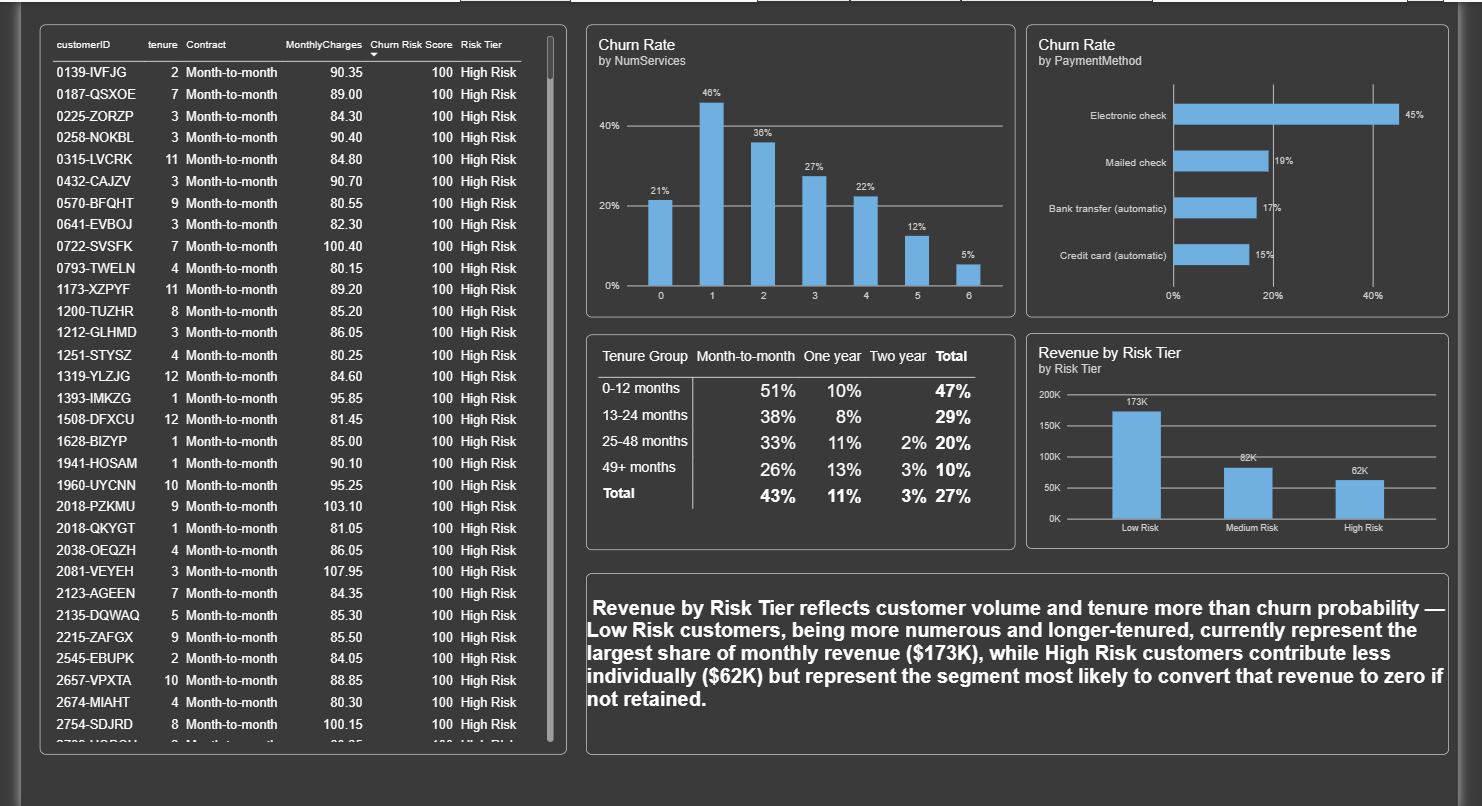

What the dashboard file says about the page in this screenshot:
{"tool":"powerbi","page":{"name":"Page 2","canvas":[1920,1080],"ordinal":1},"visuals":[{"type":"clusteredColumnChart","fields":{"Category":["saas_churn_analysis customers_raw.NumServices"],"Y":["saas_churn_analysis customers_raw.Churn Rate"]},"box":[754.6,30.8,573.7,390.9],"z":0},{"type":"barChart","fields":{"Category":["saas_churn_analysis customers_raw.PaymentMethod"],"Y":["saas_churn_analysis customers_raw.Churn Rate"]},"box":[1342.8,30.8,564.6,390.9],"z":1},{"type":"pivotTable","fields":{"Columns":["saas_churn_analysis customers_raw.Contract"],"Rows":["saas_churn_analysis customers_raw.Tenure Group"],"Values":["saas_churn_analysis customers_raw.Churn Rate"]},"box":[754.6,443.4,573.7,287.7],"z":2},{"type":"tableEx","fields":{"Values":["saas_churn_analysis customers_raw.customerID","saas_churn_analysis customers_raw.tenure","saas_churn_analysis customers_raw.Contract","saas_churn_analysis customers_raw.MonthlyCharges","saas_churn_analysis customers_raw.Churn Risk Score","saas_churn_analysis customers_raw.Risk Tier"]},"box":[25.3,30.8,704,975.4],"z":3},{"type":"clusteredColumnChart","fields":{"Category":["saas_churn_analysis customers_raw.Risk Tier"],"Y":["saas_churn_analysis customers_raw.Revenue by Risk Tier"]},"box":[1343,443,565,288],"z":5},{"type":"textbox","box":[754.6,763.7,1152.8,242.5],"z":6}]}

Visuals, with their boxes on the page's 1920x1080 design canvas (x1, y1, x2, y2). These are canvas units, not pixel positions in the 1482x806 screenshot, which may show the page scaled, cropped or inside an application window:
clusteredColumnChart - saas_churn_analysis customers_raw.NumServices x saas_churn_analysis customers_raw.Churn Rate: left=755, top=31, right=1328, bottom=422
barChart - saas_churn_analysis customers_raw.PaymentMethod x saas_churn_analysis customers_raw.Churn Rate: left=1343, top=31, right=1907, bottom=422
pivotTable - saas_churn_analysis customers_raw.Contract x saas_churn_analysis customers_raw.Tenure Group: left=755, top=443, right=1328, bottom=731
tableEx - saas_churn_analysis customers_raw.customerID x saas_churn_analysis customers_raw.tenure: left=25, top=31, right=729, bottom=1006
clusteredColumnChart - saas_churn_analysis customers_raw.Risk Tier x saas_churn_analysis customers_raw.Revenue by Risk Tier: left=1343, top=443, right=1908, bottom=731
textbox: left=755, top=764, right=1907, bottom=1006
